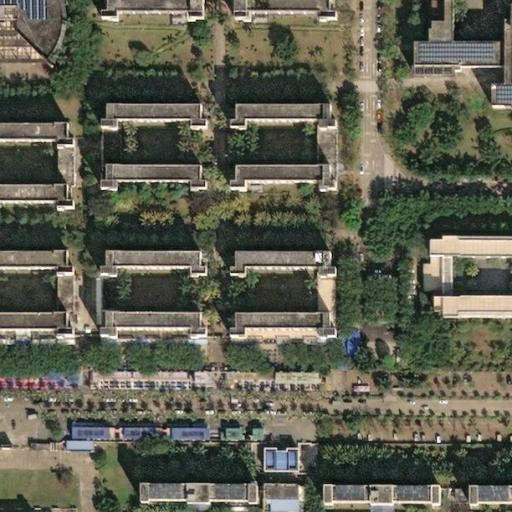building: (411, 272, 512, 320), (466, 0, 512, 77), (90, 256, 198, 284), (218, 255, 326, 283), (217, 317, 325, 345), (218, 168, 326, 196), (88, 319, 196, 346), (88, 170, 196, 197), (217, 105, 325, 132), (88, 106, 196, 133), (130, 482, 247, 506), (313, 486, 430, 509), (430, 236, 512, 258), (458, 490, 512, 510), (213, 367, 262, 385), (251, 441, 286, 466), (499, 32, 512, 85), (250, 474, 286, 491), (262, 368, 308, 381), (60, 423, 98, 438), (159, 423, 197, 435), (111, 423, 147, 435), (257, 490, 286, 504), (334, 331, 347, 358), (53, 441, 83, 452), (182, 368, 199, 385), (329, 385, 361, 391), (213, 424, 231, 434), (238, 423, 251, 436), (55, 371, 69, 383), (35, 366, 47, 379), (312, 371, 320, 384), (208, 428, 213, 438), (64, 338, 71, 343)
